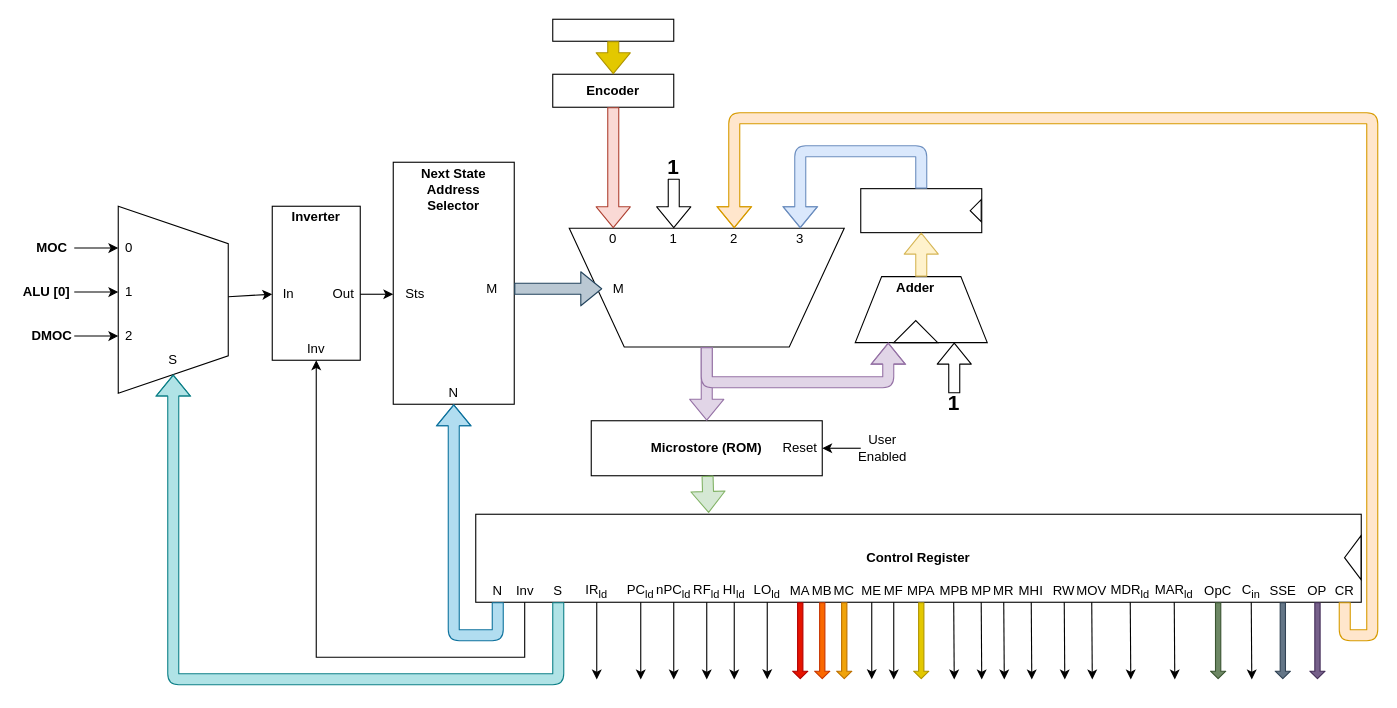
The diagram is 1397 pixels wide and 708 high, and some of its shapes have lost their labels. Each missing label, with the centre of its shape:
"Incrementer Register" belongs at pixel 921 210.
"IR" belongs at pixel 613 29.
